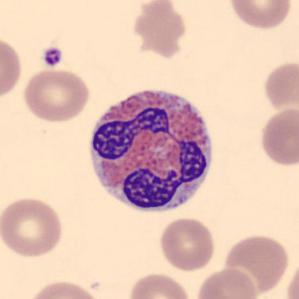Eosinophil: (83, 79, 219, 222)
Platelets: (40, 44, 65, 70)
RBC: (221, 231, 292, 297), (0, 193, 65, 259), (21, 67, 91, 123), (132, 1, 190, 60), (158, 216, 218, 272), (257, 106, 299, 168), (194, 266, 260, 299), (226, 0, 294, 31), (261, 58, 298, 112), (126, 271, 193, 299), (25, 278, 103, 299), (0, 34, 24, 102), (285, 255, 299, 299)
